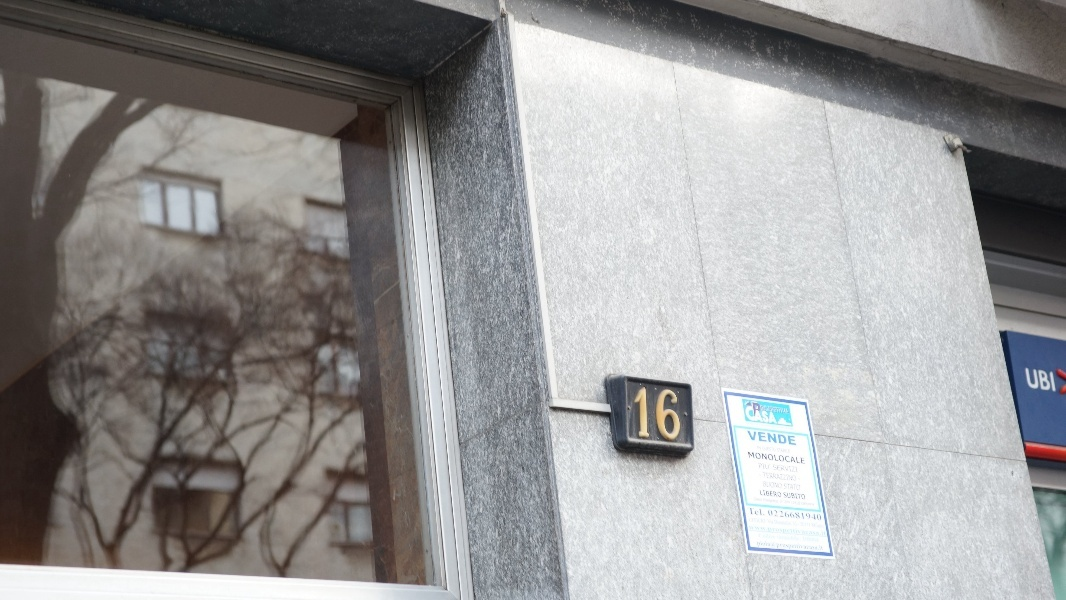text: (641, 385, 656, 442), (657, 385, 672, 442), (673, 385, 685, 442), (1041, 367, 1057, 392), (1025, 367, 1040, 392), (634, 385, 640, 442), (753, 405, 768, 425), (753, 402, 768, 419), (769, 402, 784, 419), (753, 430, 768, 446), (769, 430, 784, 446), (753, 452, 768, 465), (769, 452, 784, 465), (785, 452, 800, 465), (785, 430, 797, 446), (769, 405, 778, 425), (769, 510, 784, 521), (785, 510, 800, 521), (801, 510, 816, 521), (753, 518, 768, 528), (769, 518, 784, 528), (785, 518, 800, 528), (801, 518, 816, 528), (745, 405, 752, 425), (769, 473, 784, 482), (785, 492, 800, 500), (769, 498, 784, 506), (785, 498, 800, 506), (769, 534, 784, 542), (785, 534, 800, 542), (801, 534, 816, 542), (785, 543, 800, 551), (801, 543, 816, 551), (785, 473, 798, 482), (785, 465, 799, 473), (754, 498, 768, 506), (801, 498, 815, 506), (785, 484, 800, 491), (769, 490, 782, 498), (753, 508, 765, 516), (769, 482, 782, 489), (773, 465, 784, 473), (785, 402, 790, 419), (747, 430, 752, 446), (817, 518, 825, 528), (785, 528, 801, 533), (757, 541, 768, 548), (753, 526, 768, 531), (769, 528, 784, 533), (759, 534, 768, 542), (801, 452, 806, 465), (760, 490, 768, 498), (759, 463, 768, 470), (802, 531, 816, 535), (777, 543, 784, 551), (817, 543, 824, 551), (817, 510, 822, 521), (822, 531, 832, 536), (763, 473, 768, 482), (773, 543, 784, 547), (758, 446, 768, 450), (801, 492, 806, 500), (748, 518, 752, 528), (749, 452, 752, 465), (769, 447, 776, 452), (777, 448, 784, 453), (748, 508, 752, 516), (762, 447, 768, 452), (785, 448, 791, 453), (764, 482, 768, 489), (817, 534, 820, 542), (817, 531, 822, 535), (769, 463, 771, 470), (769, 541, 771, 548), (750, 526, 752, 531)
